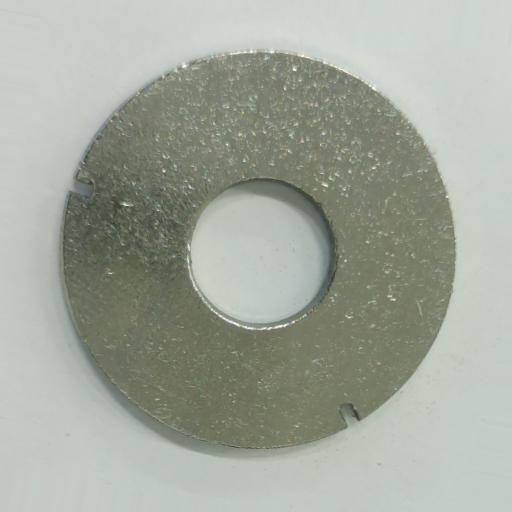burr: (67, 172, 96, 202), (337, 402, 361, 426)
